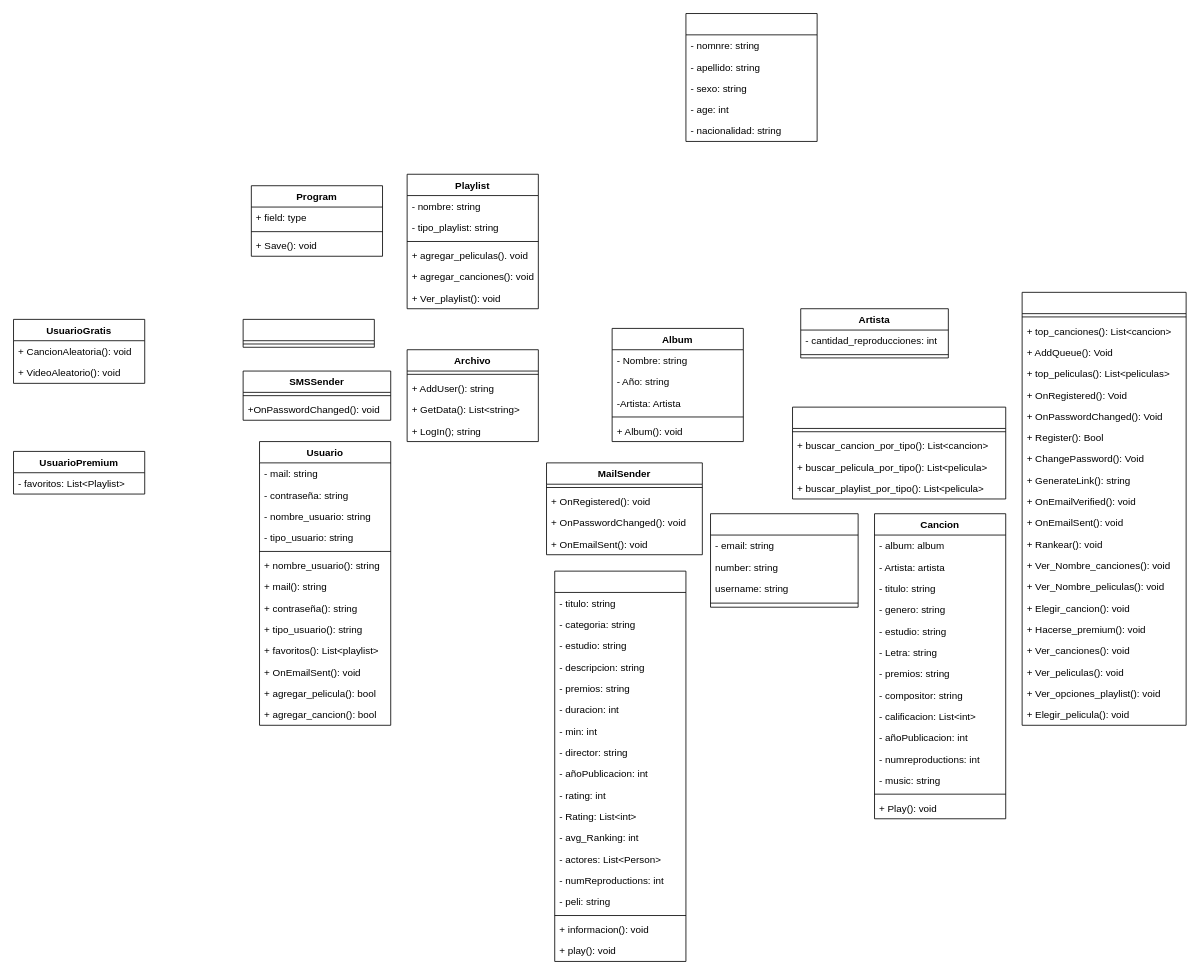
The diagram is 1200 pixels wide and 975 high, and some of its shapes have lost their labels. Here are the shapes that lost their labels. From the top down, the box of each, then its label:
(685, 13, 817, 141): Person
(242, 319, 374, 347): RegisterEventsArgs
(792, 406, 1006, 499): Busqueda
(1021, 292, 1186, 725): App
(710, 513, 858, 607): ChangePasswordEventsArgs
(554, 570, 686, 961): Pelicula
